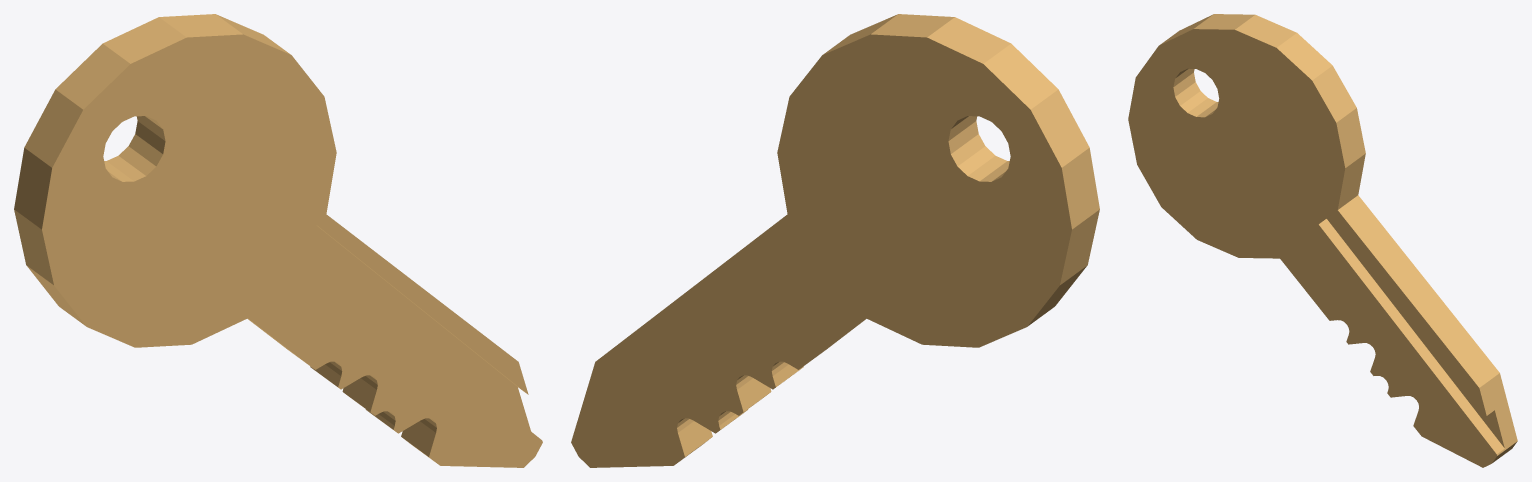
The model's file is key.glb.
3 views of the same model, side by side, from view 1: azimuth 30°, elevation 25°; view 2: azimuth 150°, elevation 25°; view 3: azimuth 330°, elevation 25° (orthographic). The views are drawn at different scales.
Parts seen in each view (by area): view 1: Cylinder; view 2: Cylinder; view 3: Cylinder.
Part boxes in pixels (x1,y1,x2,y2): Cylinder: (14,14,542,467); Cylinder: (571,14,1099,467); Cylinder: (1128,14,1517,467).
Bounding box in the file's own units: 2.15 × 2.11 × 0.2081.
